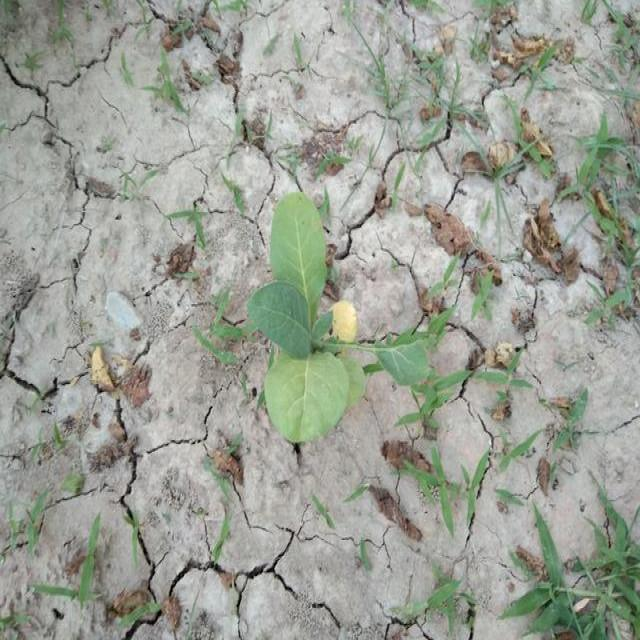crop: (242, 194, 436, 460)
